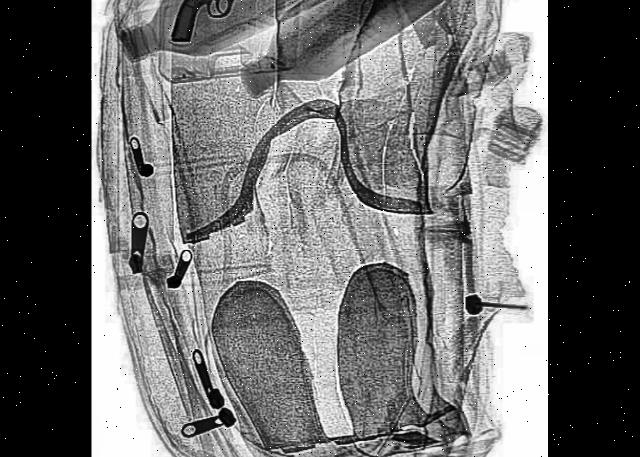Gun: (161, 0, 290, 46)
